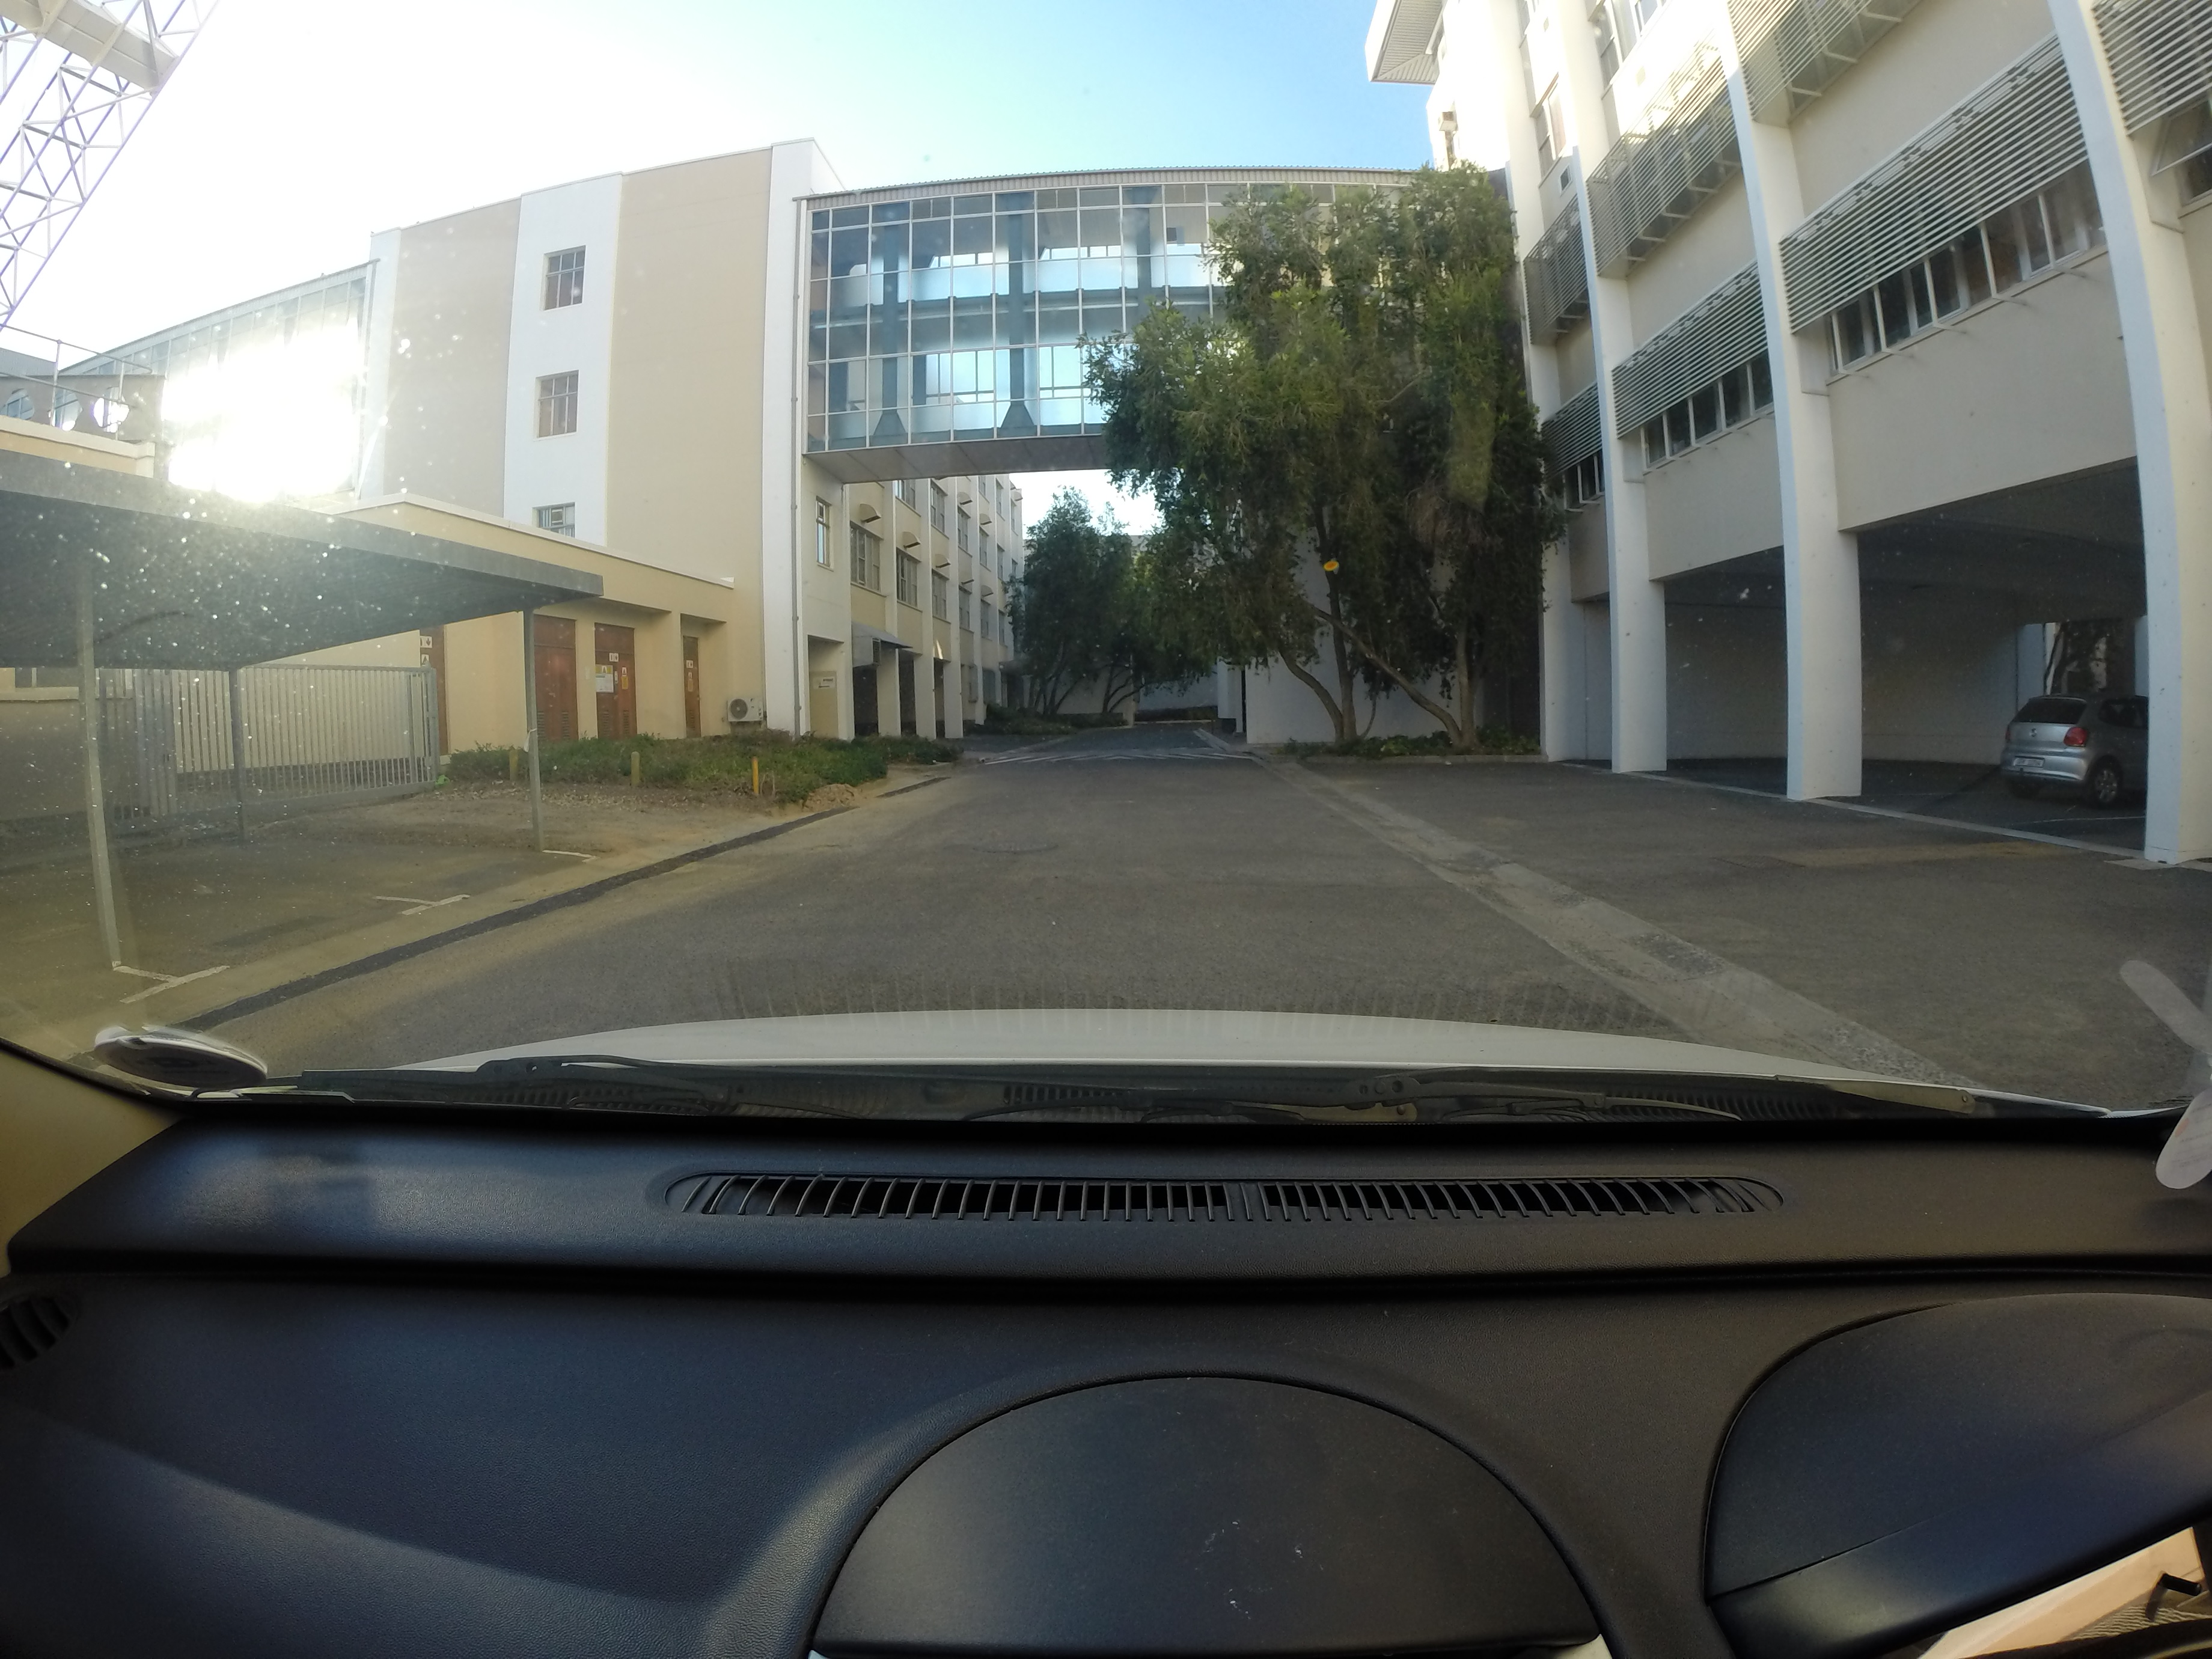pothole: (803, 842, 860, 857)
